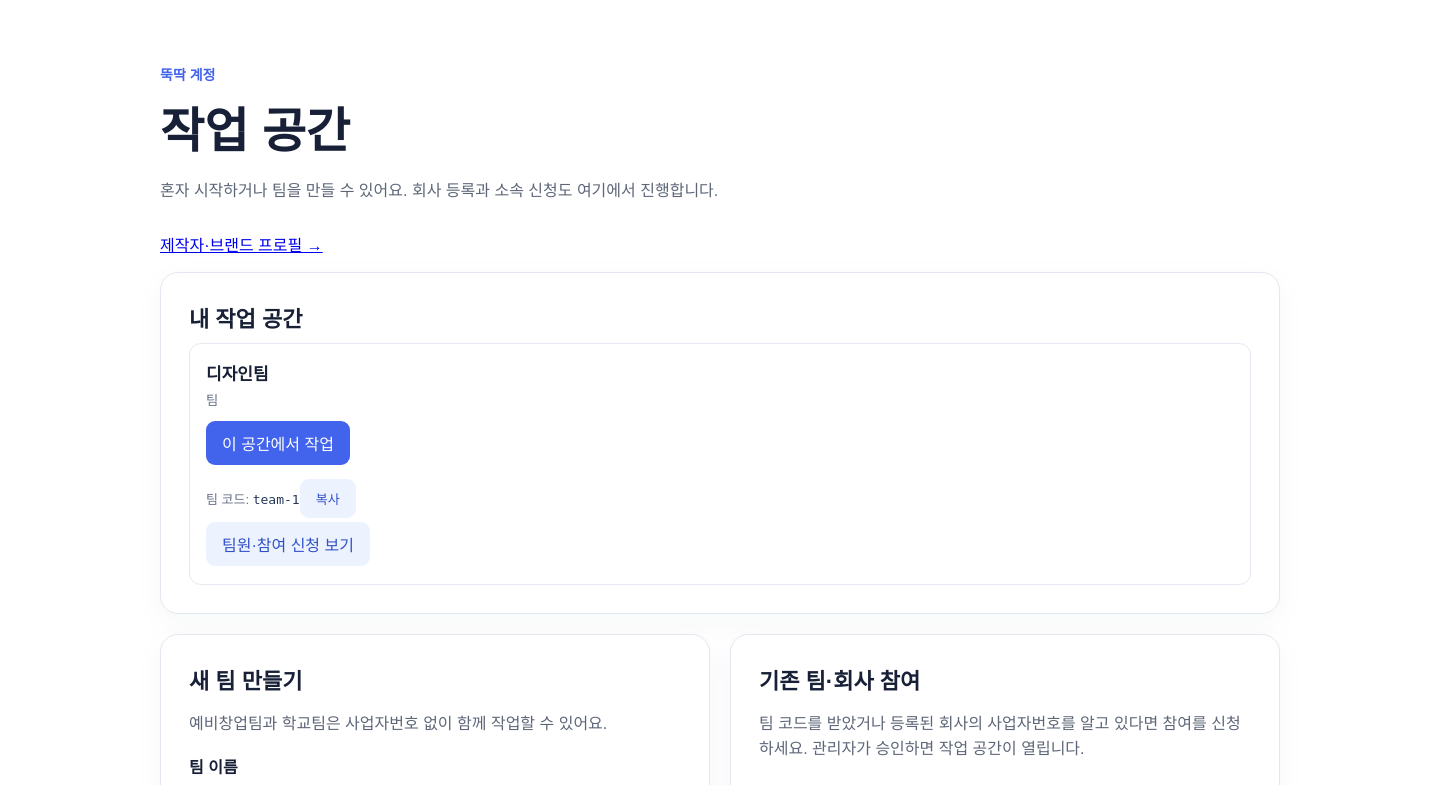
Scenario: admins can remove editors but cannot remove themselves or other admins
Click the button "팀원·참여 신청 보기" at (288, 544), box x1=206 y1=522 x2=370 y2=566
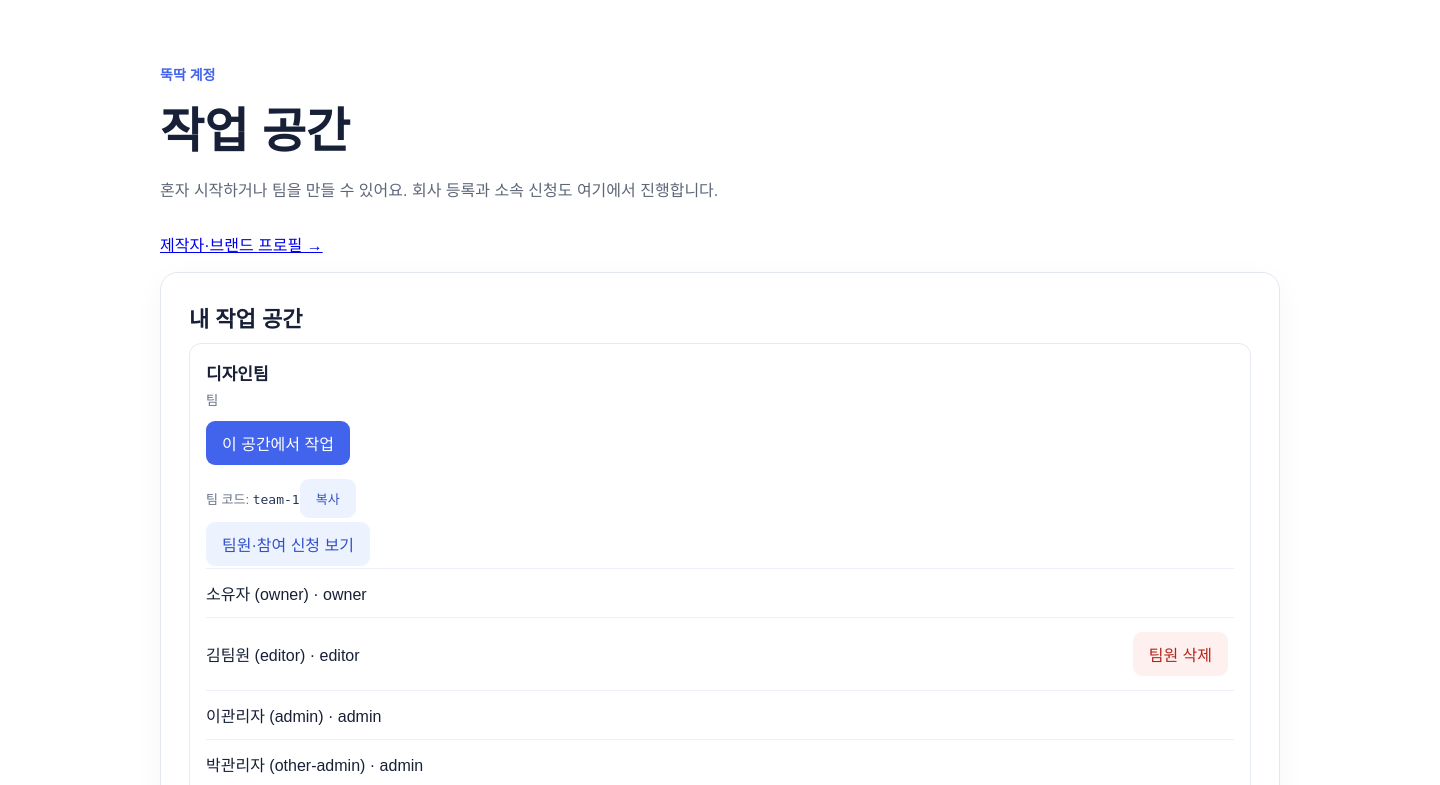
Result: the text "김팀원 (editor) · editor" is shown at x1=206 y1=642 x2=360 y2=666
Result: the button with aria-label "김팀원 팀원 삭제" is enabled at x1=1133 y1=632 x2=1228 y2=676
